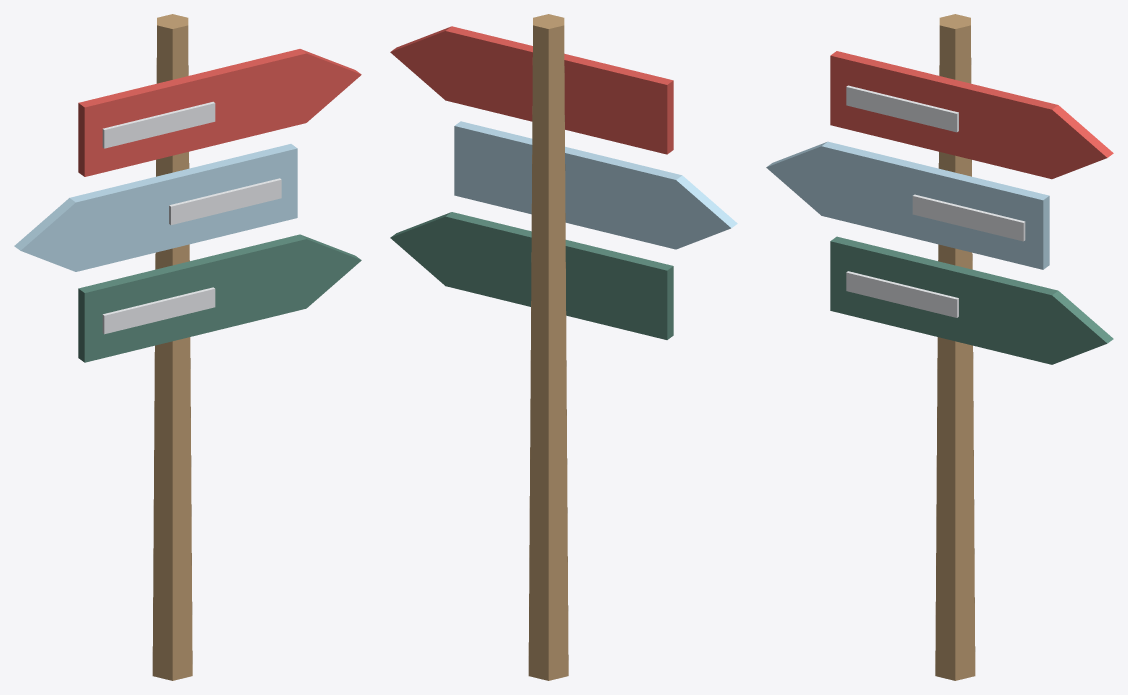
Rendered from ski-resort-and-snow-park-trail-sign-post-0fbf6fda.glb.
The picture shows the model from 3 angles, left to right: view 1: azimuth 30°, elevation 25°; view 2: azimuth 150°, elevation 25°; view 3: azimuth 330°, elevation 25°; orthographic projection.
Parts seen in each view (by area): view 1: trail-sign-post; view 2: trail-sign-post; view 3: trail-sign-post.
Boxes of the visible parts, <box> form: trail-sign-post: <box>14,14,361,680</box>; trail-sign-post: <box>390,14,737,680</box>; trail-sign-post: <box>766,14,1113,680</box>.
Size of the model in its own units: 1.54 by 2.8 by 0.2379.
